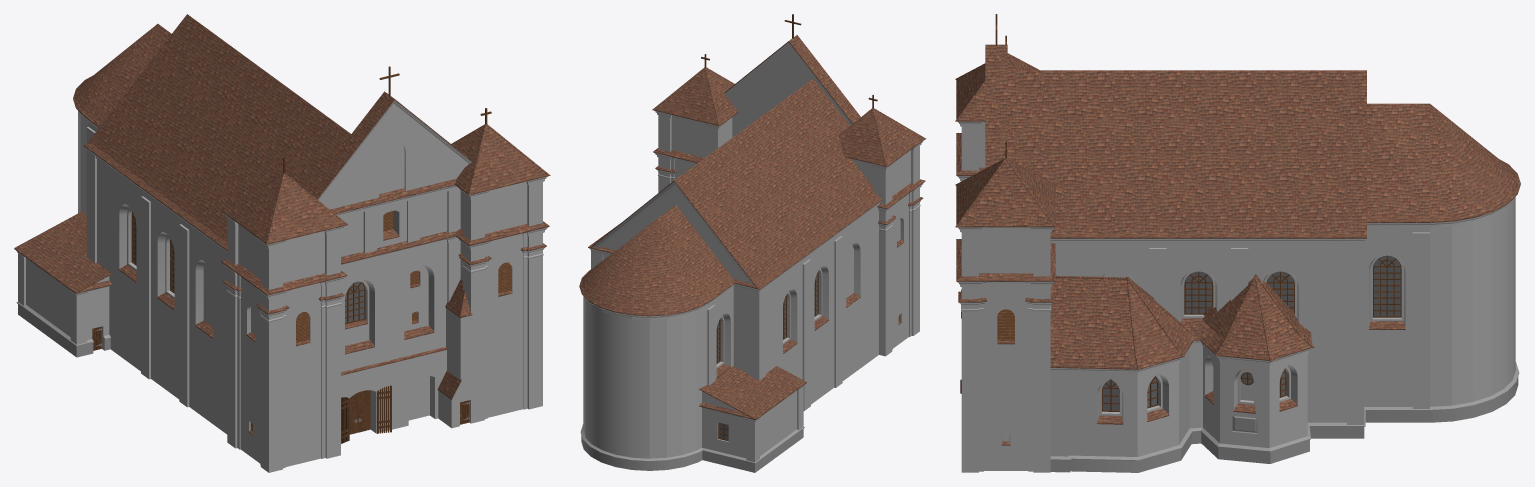
Rendered from nawahradak_fara.glb.
3 views of the same model, side by side, from view 1: azimuth 30°, elevation 25°; view 2: azimuth 150°, elevation 25°; view 3: azimuth 270°, elevation 25° (orthographic). The views are drawn at different scales.
Parts seen in each view (by area): view 1: nawahradak.005_nawahradak.003; view 2: nawahradak.005_nawahradak.003; view 3: nawahradak.005_nawahradak.003.
Part boxes in pixels (<box>): nawahradak.005_nawahradak.003: <box>14,14,550,472</box>; nawahradak.005_nawahradak.003: <box>579,14,926,472</box>; nawahradak.005_nawahradak.003: <box>955,14,1520,472</box>.
Bounding box in the file's own units: 24.26 × 27.18 × 36.06.
Materials: 5 (3 with a texture image).
